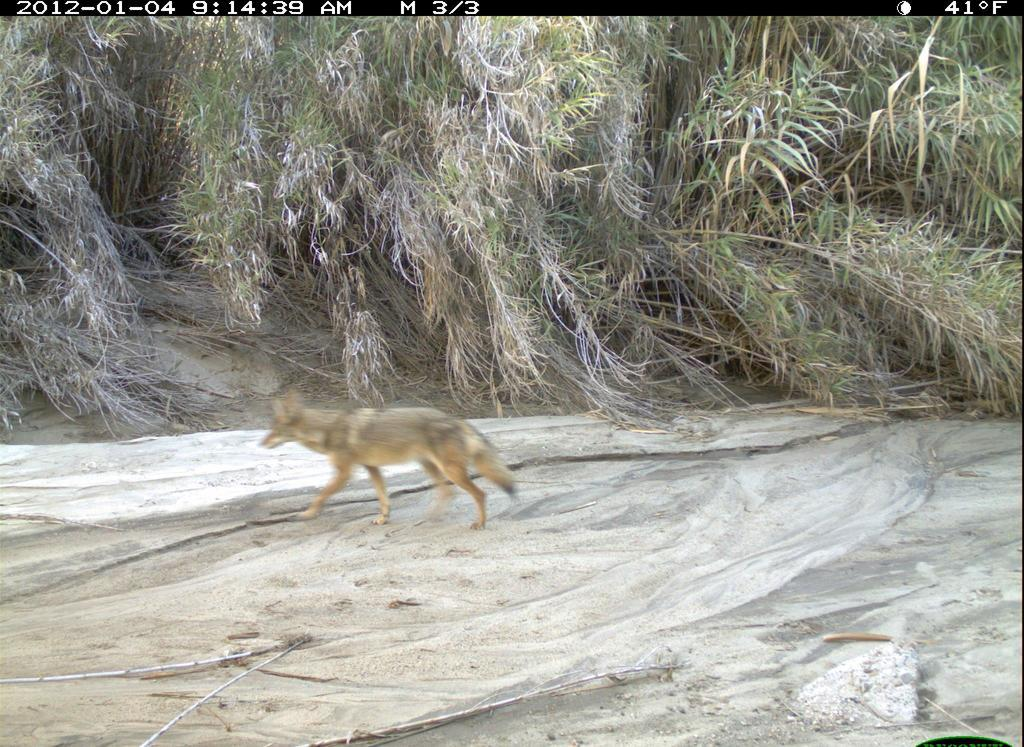coyote: (254, 379, 525, 538)
